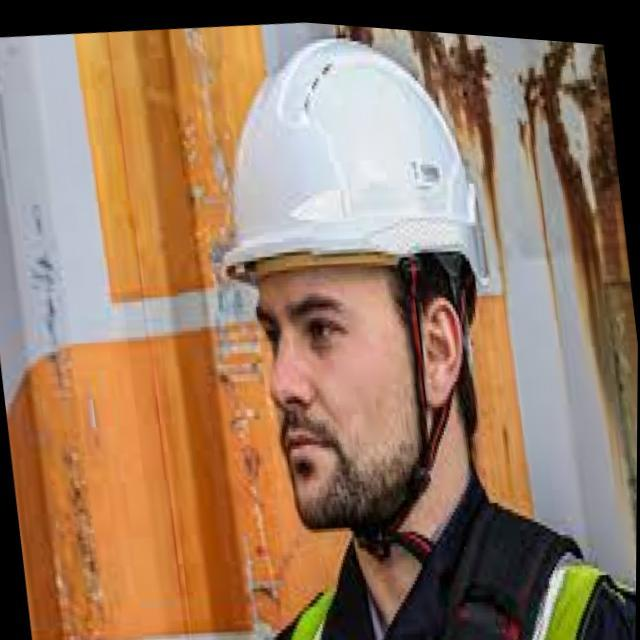Helmet: (217, 35, 492, 516)
